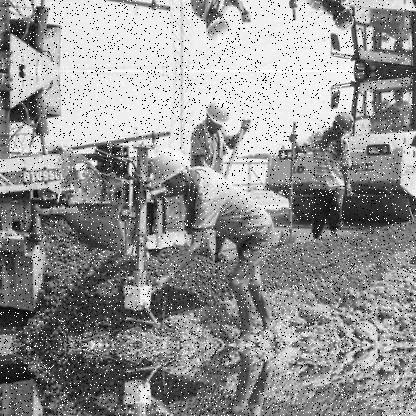Helmet: (141, 149, 203, 206), (192, 8, 238, 50), (195, 95, 235, 139), (320, 108, 362, 144), (323, 3, 359, 34)
